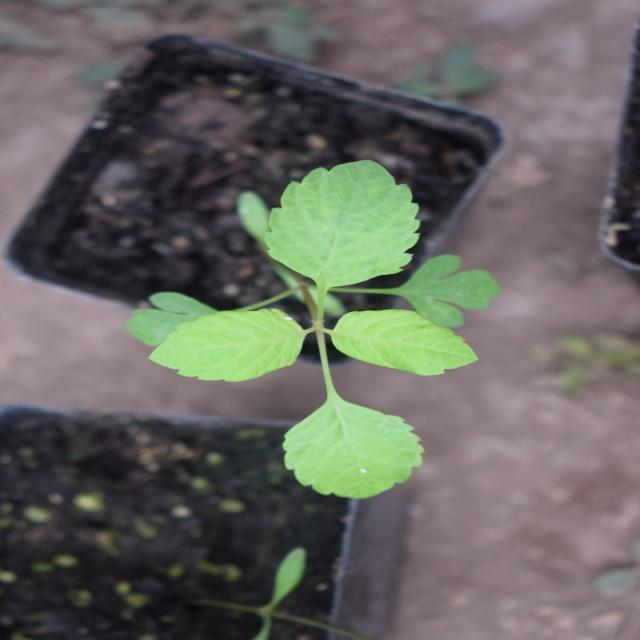Bidens pilosa: (127, 130, 514, 510)
